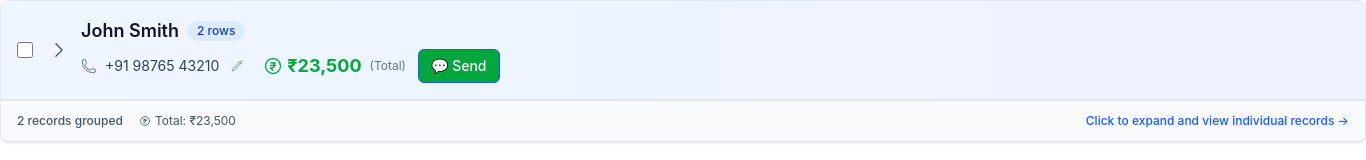
Test: ClusterCard › shows phone editor when edit button is clicked
Click the button titled "Edit phone number for all contacts in cluster" at (237, 66), box x1=227 y1=56 x2=247 y2=76
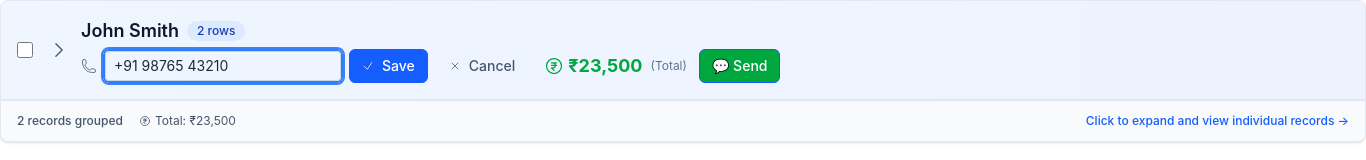
expect the field with placeholder "Enter phone number" is shown: met, box x1=105 y1=51 x2=341 y2=81
